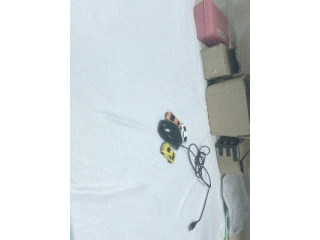box: (206, 74, 250, 136), (216, 137, 250, 175)
mouse: (157, 117, 182, 149)
toy_car: (160, 142, 176, 163), (164, 109, 184, 125), (180, 124, 188, 142)
